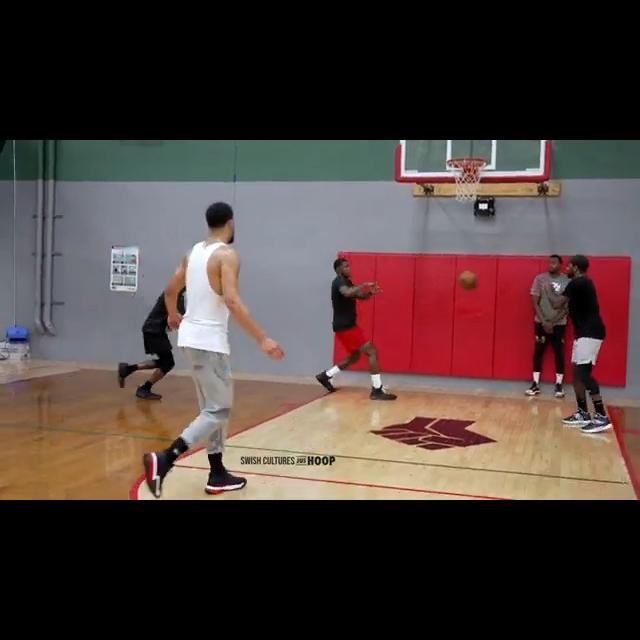basketball: (459, 271, 479, 290)
hoop: (446, 157, 488, 203)
person: (149, 201, 259, 500), (543, 252, 616, 435), (313, 255, 401, 402), (117, 279, 191, 399), (526, 254, 570, 398)
